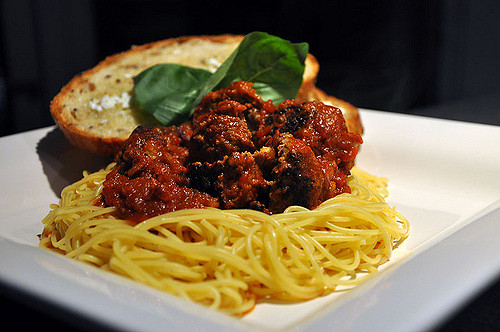plain spaghetti: (52, 215, 413, 284)
slice of bread: (46, 38, 132, 158)
